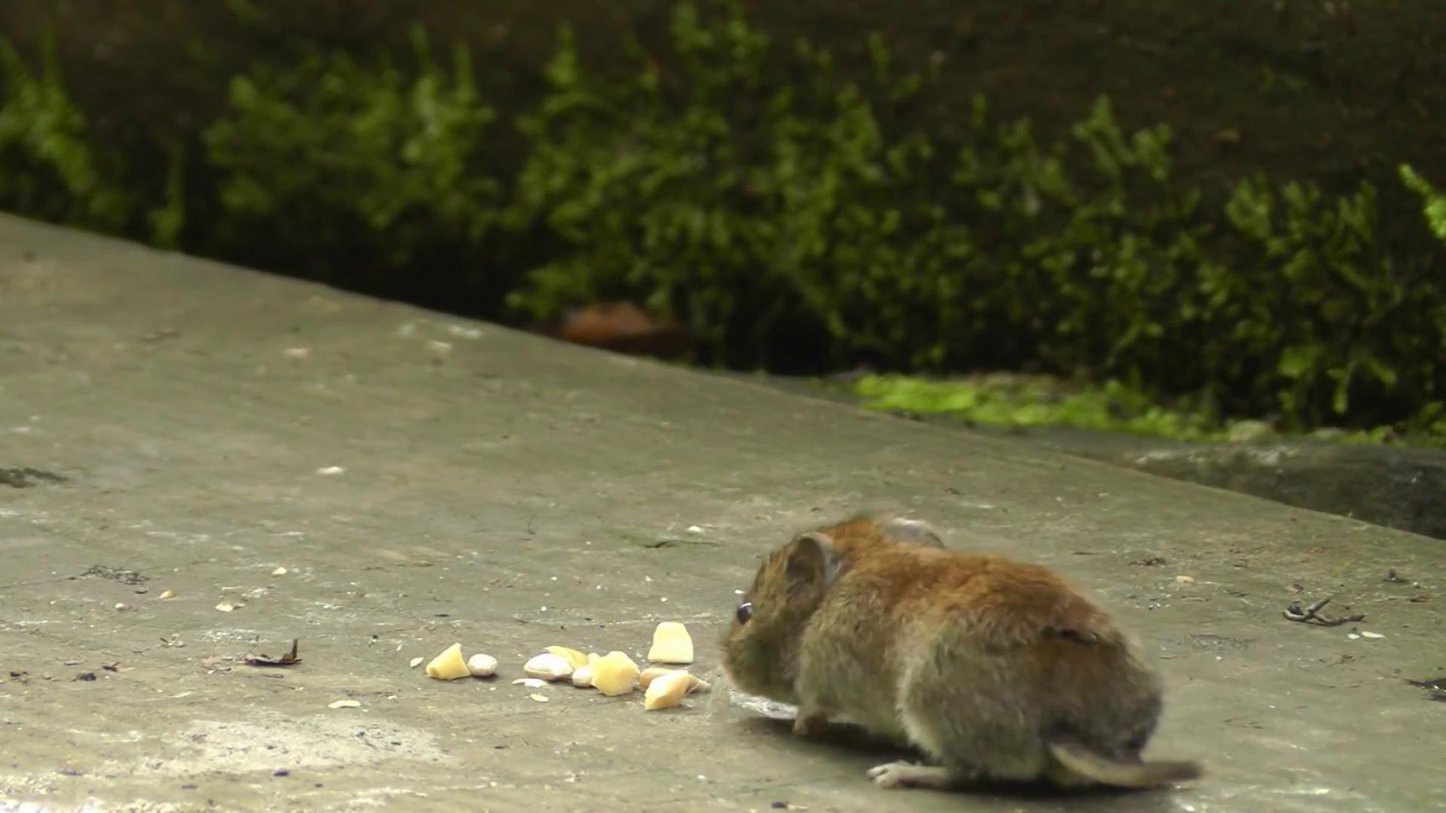rat: (720, 513, 1202, 792)
